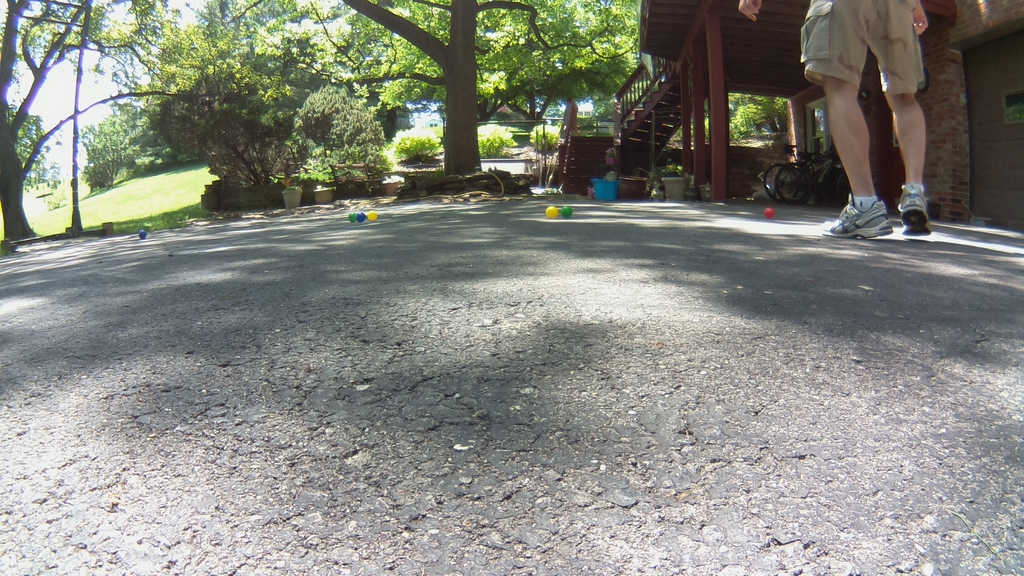ball: (348, 213, 357, 220)
